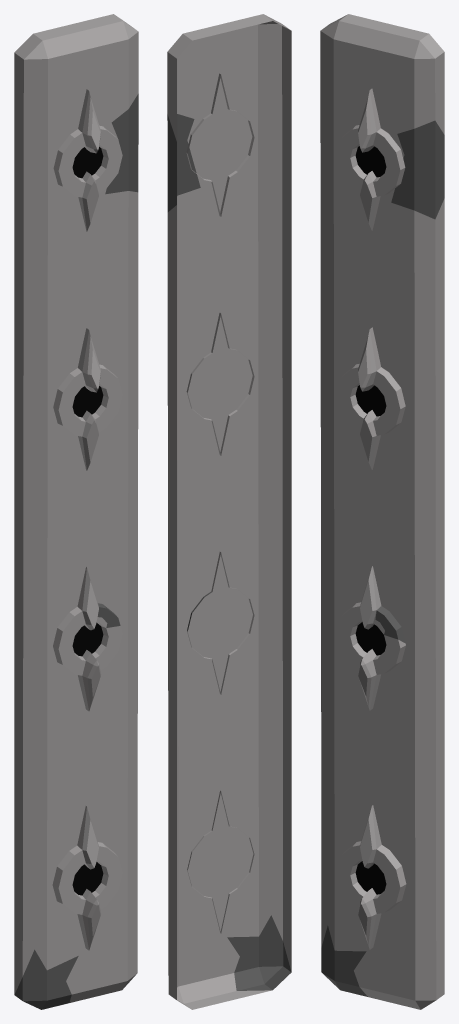
File: MEDProjectileMetalTrap.fbx
3 renders of one model, left to right at view 1: azimuth 30°, elevation 25°; view 2: azimuth 210°, elevation 25°; view 3: azimuth 330°, elevation 25°, orthographic.
Visible parts, largest first — view 1: MEDProjectileMetalTrap; view 2: MEDProjectileMetalTrap; view 3: MEDProjectileMetalTrap.
Boxes of the visible parts, <box> form: MEDProjectileMetalTrap: <box>14,14,138,1009</box>; MEDProjectileMetalTrap: <box>167,14,291,1009</box>; MEDProjectileMetalTrap: <box>320,14,444,1009</box>.
Bounding box in the file's own units: 15.07 × 122 × 6.
